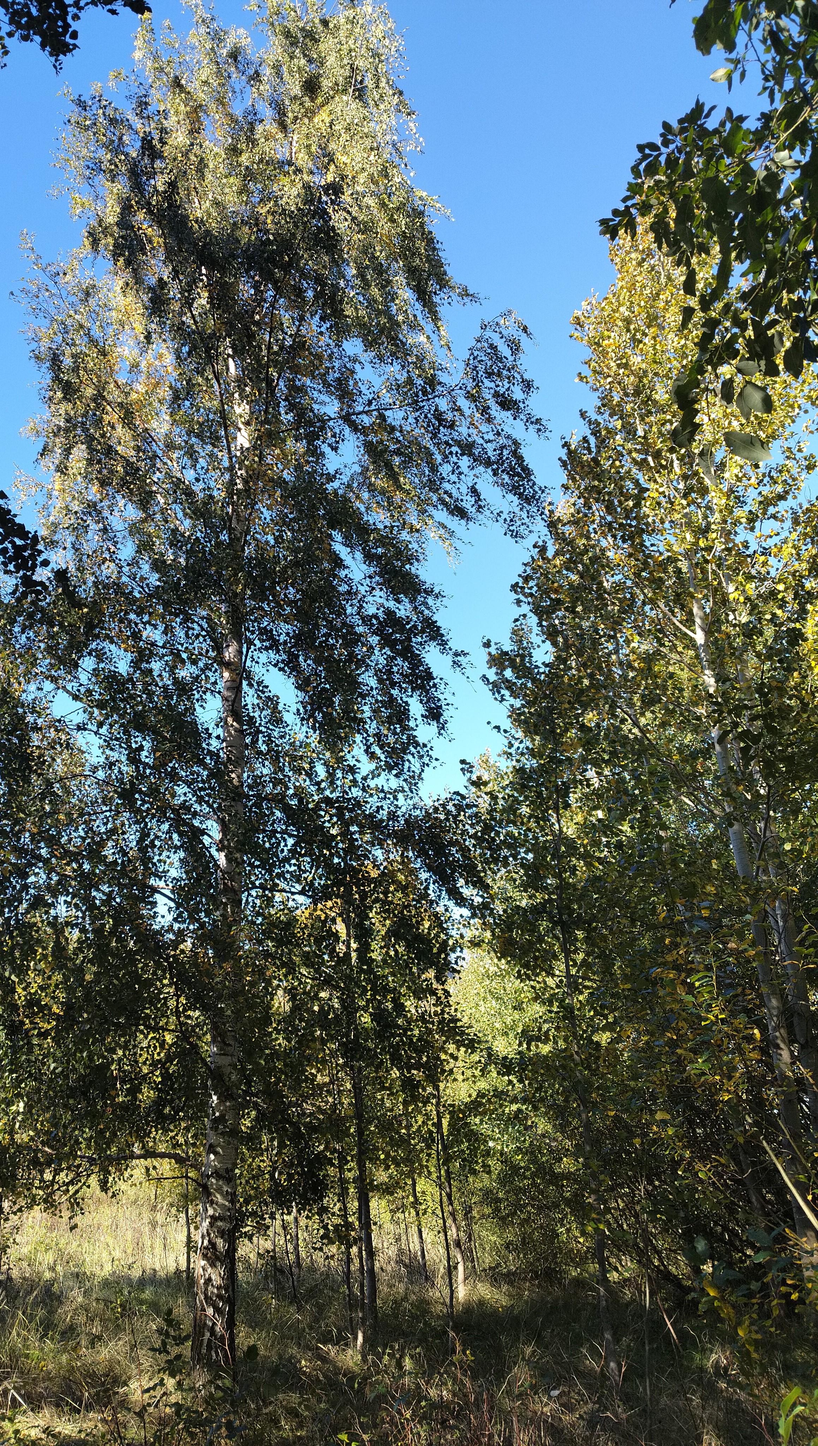Birch: (2, 2, 557, 1394)
